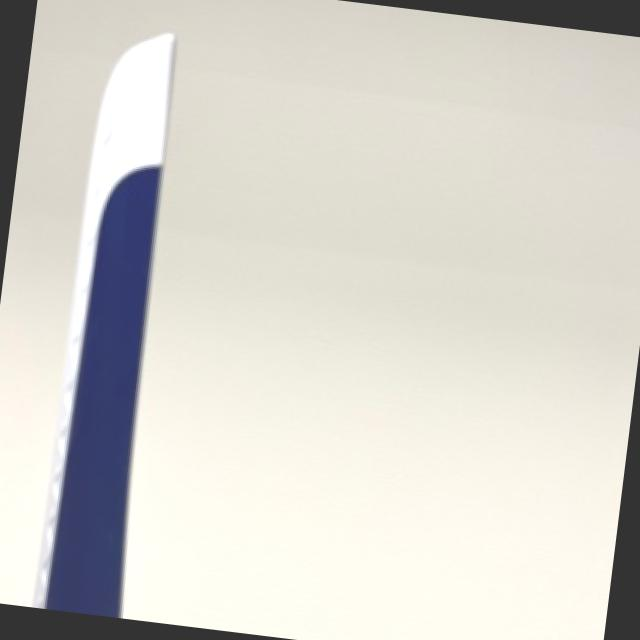healthy: (34, 31, 169, 615)
